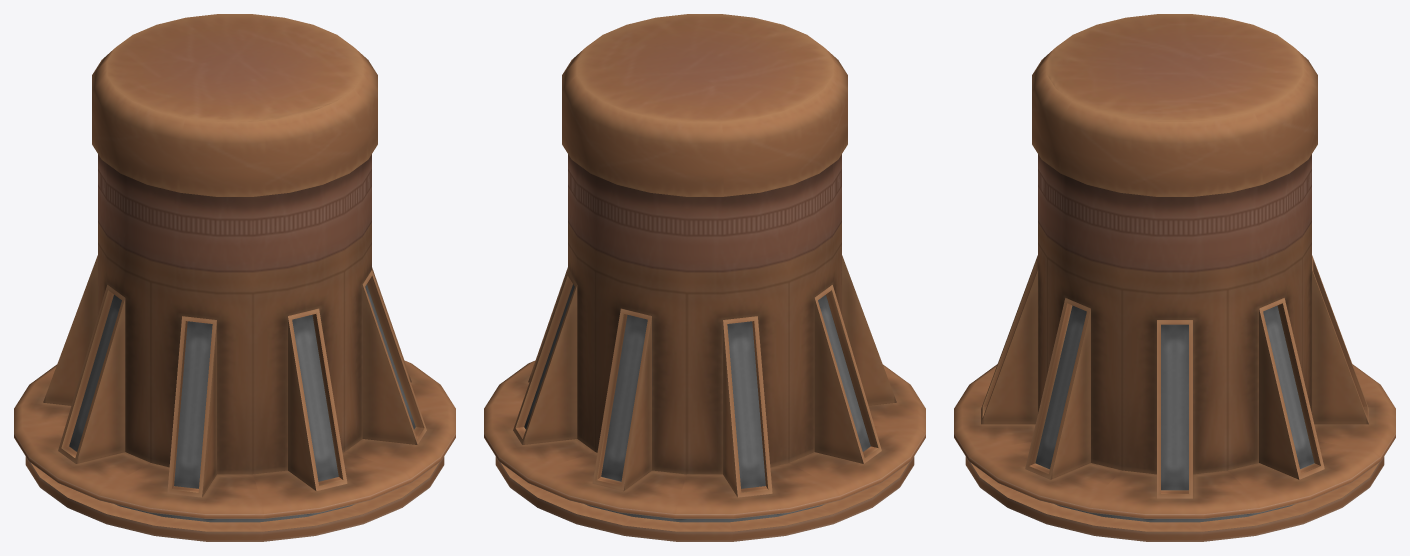
File: Mariner2Antenna_new.dae
The picture shows the model from 3 angles, left to right: view 1: azimuth 30°, elevation 25°; view 2: azimuth 150°, elevation 25°; view 3: azimuth 270°, elevation 25°; orthographic projection.
Parts seen in each view (by area): view 1: M2_Antenna; view 2: M2_Antenna; view 3: M2_Antenna.
Part boxes in pixels (x1,y1,x2,y2): M2_Antenna: (14,14,455,541); M2_Antenna: (484,14,925,541); M2_Antenna: (954,14,1395,541).
Size of the model in its own units: 0.2559 by 0.2465 by 0.2559.
